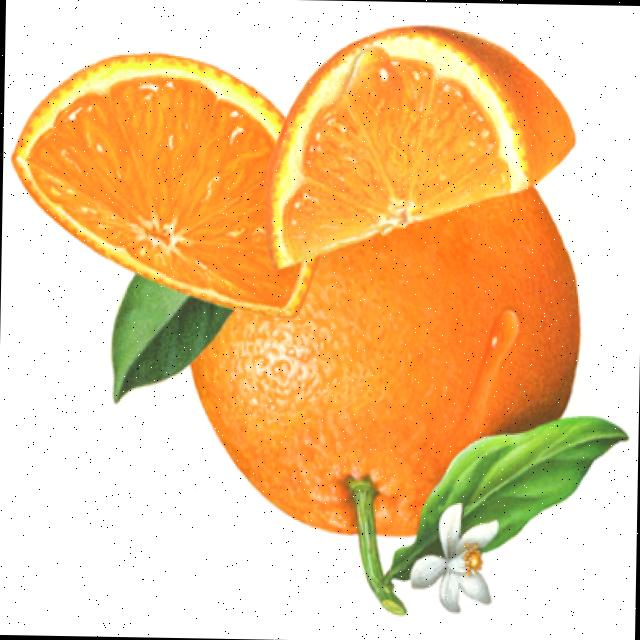Jeruk: (185, 180, 583, 542), (7, 51, 320, 322), (265, 22, 576, 276)
